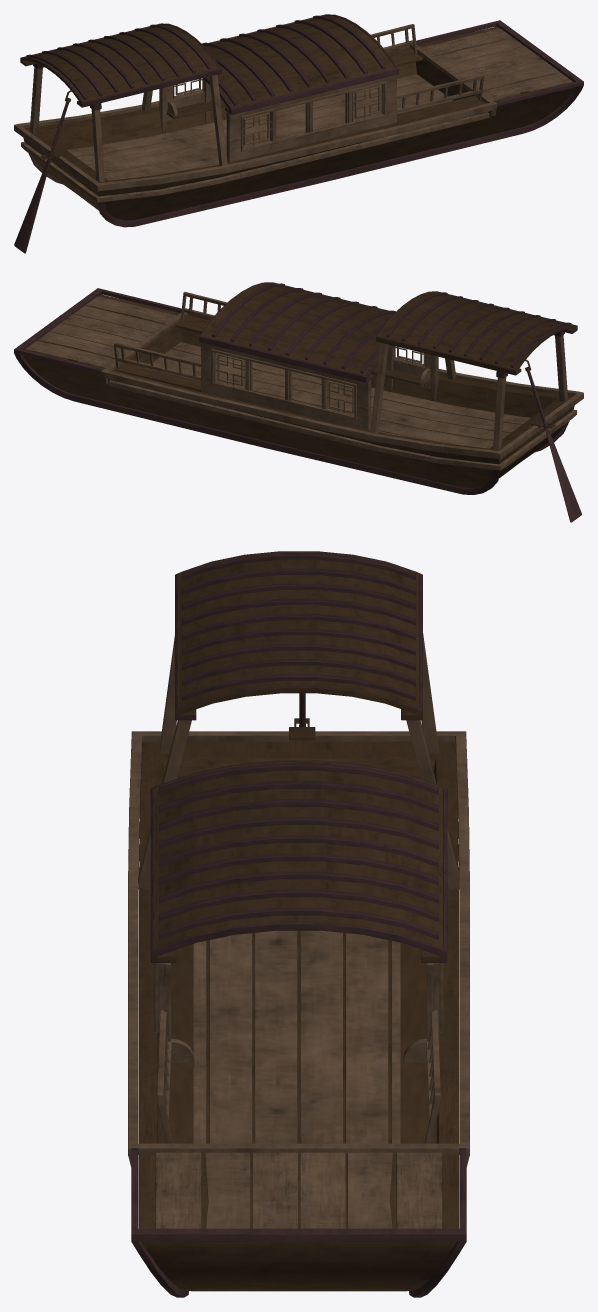
The model's file is SM_boat.glb.
3 renders of one model, top to bottom at view 1: azimuth 30°, elevation 25°; view 2: azimuth 150°, elevation 25°; view 3: azimuth 270°, elevation 25°, orthographic. The views are drawn at different scales.
Parts seen in each view (by area): view 1: SM_boat; view 2: SM_boat; view 3: SM_boat.
Boxes of the visible parts, <box> form: SM_boat: <box>14,14,583,253</box>; SM_boat: <box>14,282,583,522</box>; SM_boat: <box>128,551,469,1297</box>.
Bounding box in the file's own units: 14.87 × 4.78 × 4.22.
3 materials, 3 textured.
